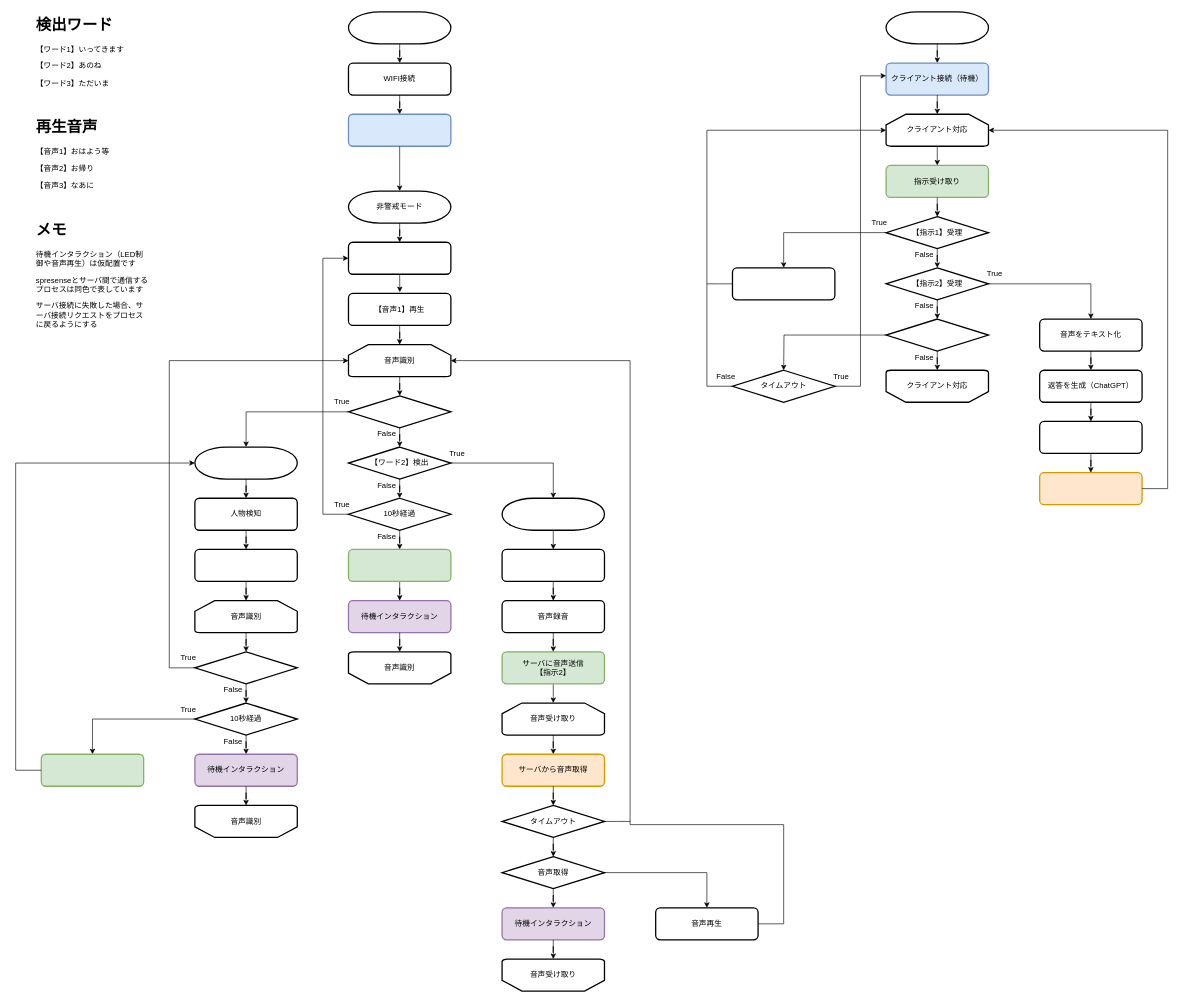
This 1184x1002 diagram has some shape labels left out. The centre of each missing label's shape, as x and y in pixels:
"line送信" belongs at pixel 783 283.
"【ワード1】検出" belongs at pixel 399 411.
"【ワード3】検出" belongs at pixel 246 667.
"【指示3】受理" belongs at pixel 937 334.
"【音声2】再生" belongs at pixel 246 565.
"【音声3】再生" belongs at pixel 553 565.
"クライアントへ音声送信" belongs at pixel 1090 488.
"サーバにline通知指示 【指示1】" belongs at pixel 92 770.
"サーバ接続" belongs at pixel 399 130.
"サーバ起動" belongs at pixel 937 27.
"サーバ通信継続 【指示3】" belongs at pixel 399 565.
"システム起動" belongs at pixel 399 27.
"テキストを音声化" belongs at pixel 1090 437.
"人物検知（待機）" belongs at pixel 399 258.
"会話モード" belongs at pixel 553 514.
"警戒モード" belongs at pixel 246 462.
